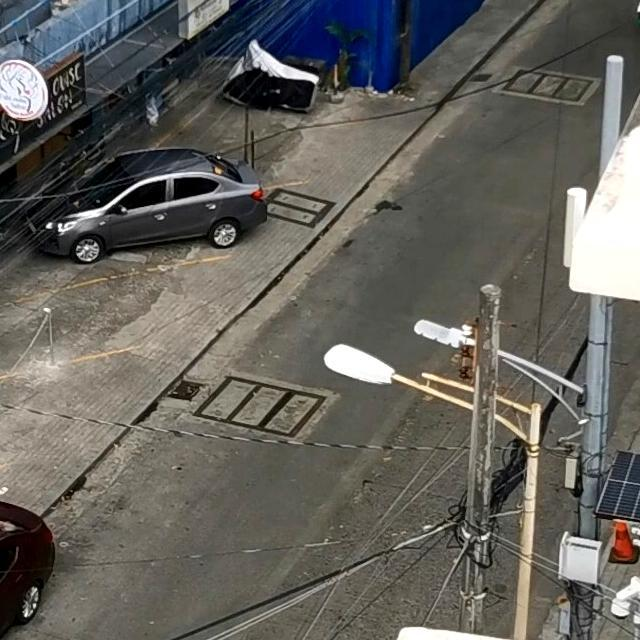Car: (29, 148, 260, 261)
